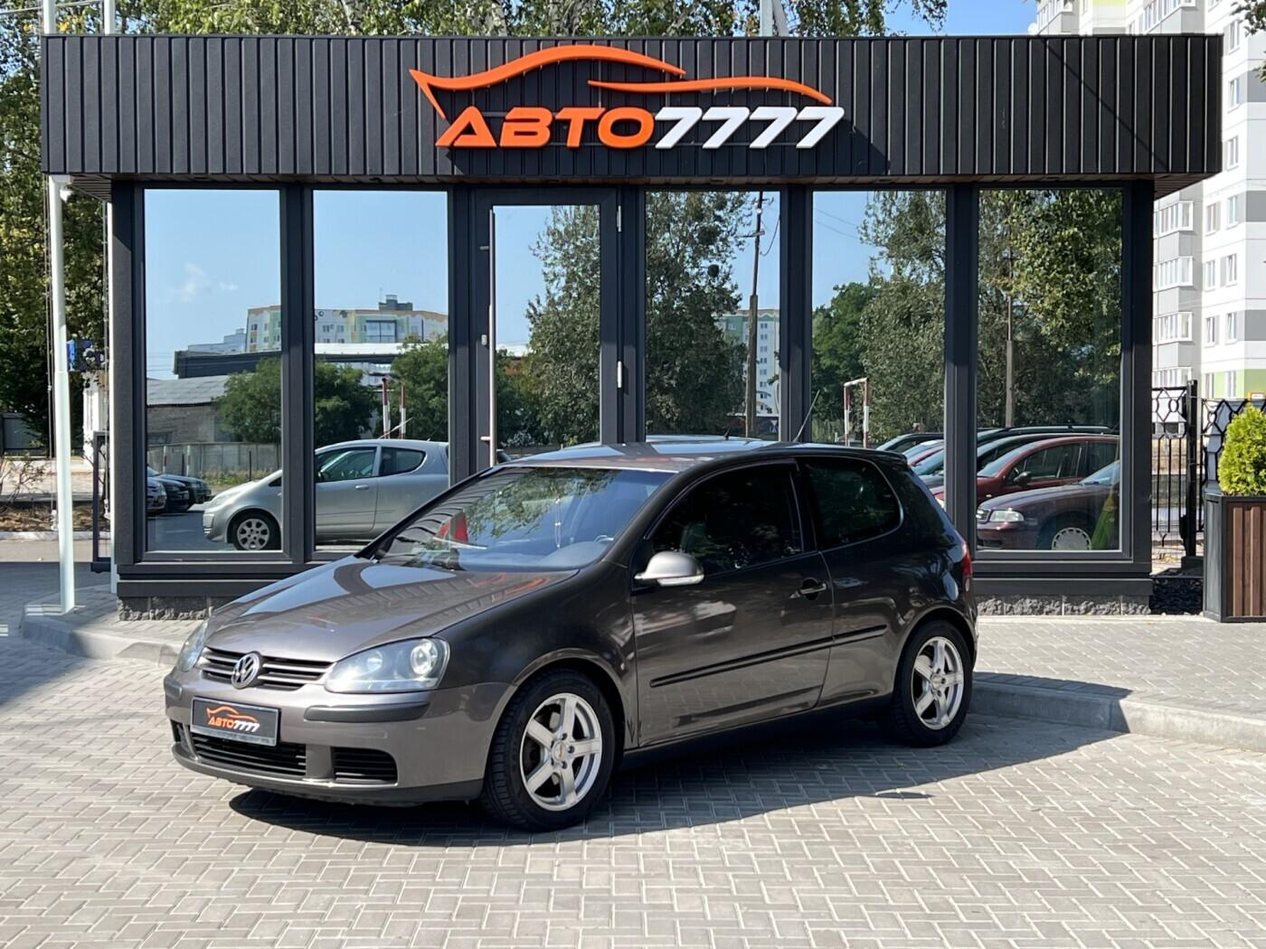Golf_2003-2009: (156, 436, 987, 822)
